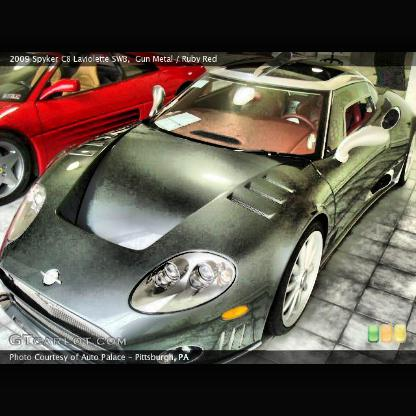Spyker C8 Convertible 2009: (2, 56, 416, 364)
